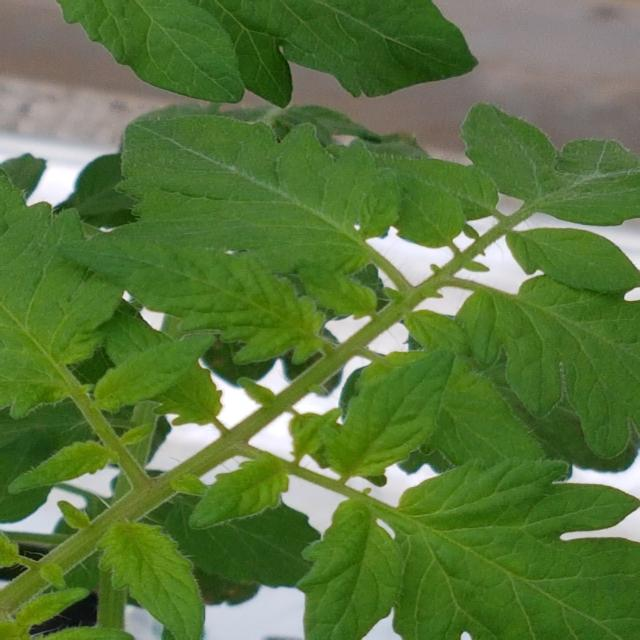Healthy Leaf: (297, 459, 640, 640), (118, 116, 404, 274), (60, 0, 478, 107), (459, 274, 640, 455), (61, 240, 323, 362), (0, 165, 126, 417), (463, 105, 640, 226), (324, 353, 452, 477), (101, 520, 208, 640), (93, 332, 214, 410), (506, 228, 640, 293), (186, 454, 290, 530), (10, 440, 111, 497), (394, 167, 464, 248)
